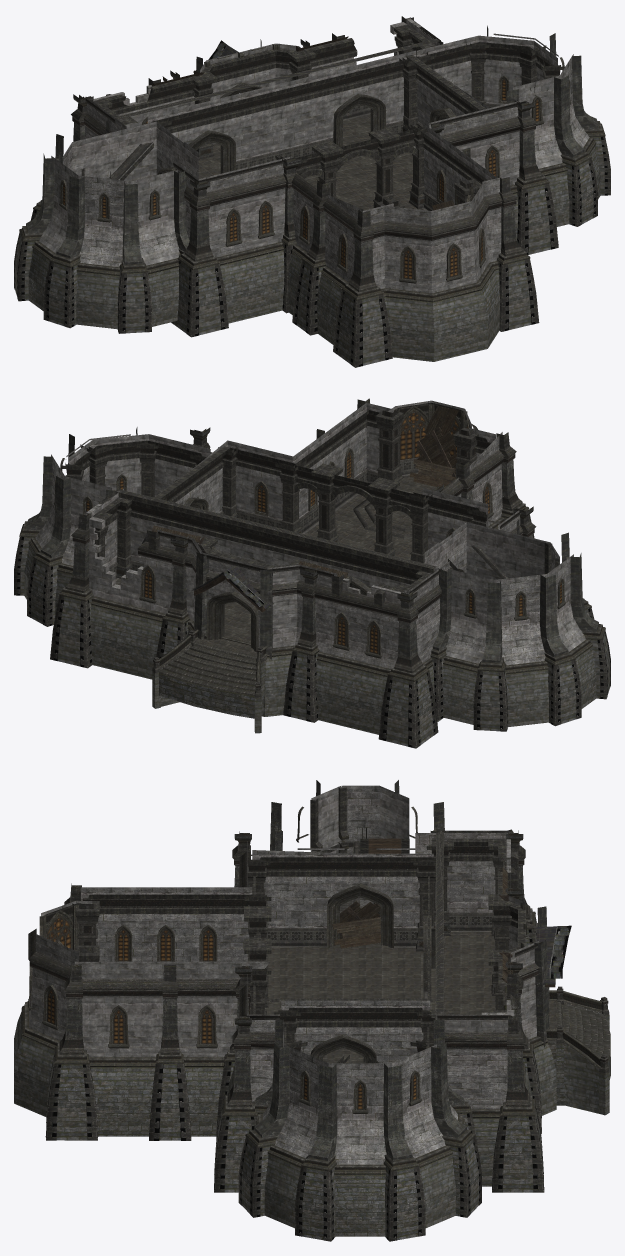
Rendered from eso_gu11_LargeManorRuinedCut1-transformed.glb.
The picture shows the model from 3 angles, top to bottom: view 1: azimuth 30°, elevation 25°; view 2: azimuth 150°, elevation 25°; view 3: azimuth 270°, elevation 25°; orthographic projection. The views are drawn at different scales.
Parts seen in each view (by area): view 1: default; view 2: default; view 3: default.
Boxes of the visible parts, left/top/right/bottom form: default: left=14, top=16, right=610, bottom=367; default: left=14, top=398, right=610, bottom=748; default: left=14, top=780, right=610, bottom=1241.
Size of the model in its own units: 77.22 by 18.63 by 60.8.
13 materials, 13 textured.
